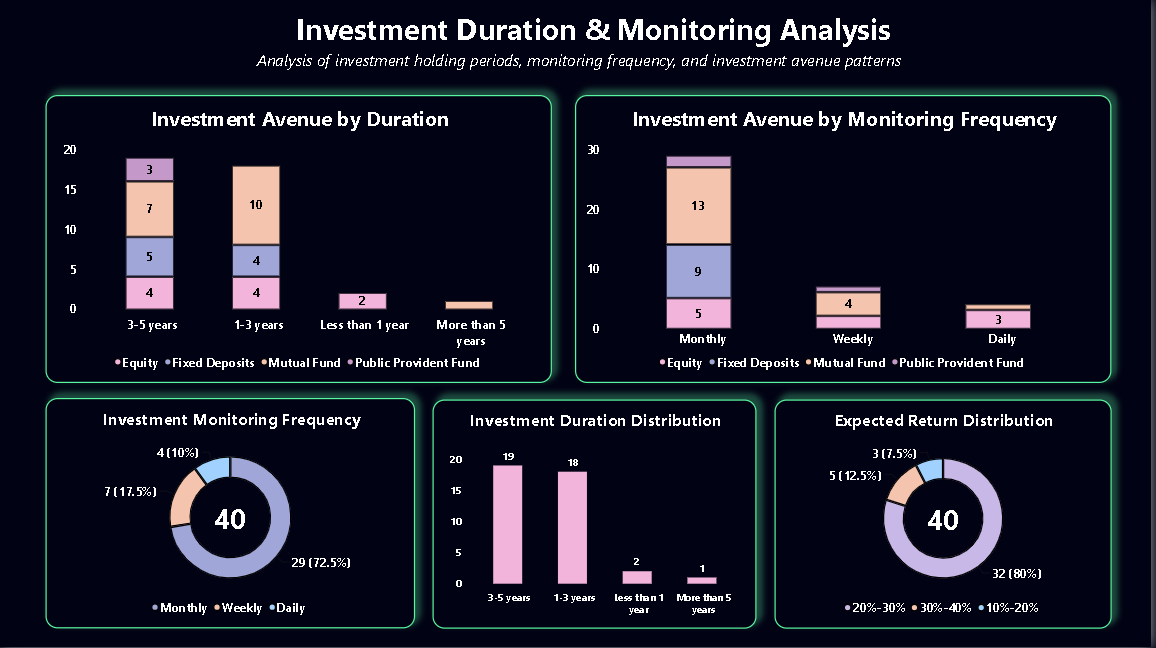

The dashboard page shown, as its layout file describes it:
{"tool":"powerbi","page":{"name":"Task-4.Investment Duration and Frequency","canvas":[1920,1080],"ordinal":3},"visuals":[{"type":"textbox","box":[128,18,1726,66],"z":0},{"type":"donutChart","title":"Investment Monitoring Frequency","fields":{"Category":["Investments.Invest_Monitor"],"Y":["CountNonNull(Investments.Invest_Monitor)"]},"box":[78,666,616,384],"z":1000},{"type":"donutChart","title":"Expected Return Distribution","fields":{"Category":["Investments.Expect"],"Y":["CountNonNull(Investments.Expect)"]},"box":[1292,668,562,382],"z":2000},{"type":"clusteredColumnChart","title":"Investment Duration Distribution","fields":{"Category":["Investments.Duration"],"Y":["CountNonNull(Investments.Duration)"]},"box":[722,668,540,382],"z":3000},{"type":"columnChart","title":"Investment Avenue by Duration","fields":{"Category":["Investments.Duration"],"Series":["Investments.Avenue"],"Y":["CountNonNull(Investments.Avenue)"]},"box":[78,160,844,480],"z":4000},{"type":"columnChart","title":"Investment Avenue by Monitoring Frequency","fields":{"Category":["Investments.Invest_Monitor"],"Series":["Investments.Avenue"],"Y":["CountNonNull(Investments.Avenue)"]},"box":[960,160,894,480],"z":5000},{"type":"textbox","box":[77.5,82.5,1777.5,47.5],"z":6000}]}

Visuals, with their boxes in screenshot pixels (x1, y1, x2, y2), scaled from the page's 1920x1080 canvas onto the 1156x648 screenshot:
textbox: <bbox>77, 11, 1116, 50</bbox>
"Investment Monitoring Frequency" donutChart: <bbox>47, 400, 418, 630</bbox>
"Expected Return Distribution" donutChart: <bbox>778, 401, 1116, 630</bbox>
"Investment Duration Distribution" clusteredColumnChart: <bbox>435, 401, 760, 630</bbox>
"Investment Avenue by Duration" columnChart: <bbox>47, 96, 555, 384</bbox>
"Investment Avenue by Monitoring Frequency" columnChart: <bbox>578, 96, 1116, 384</bbox>
textbox: <bbox>47, 50, 1117, 78</bbox>
